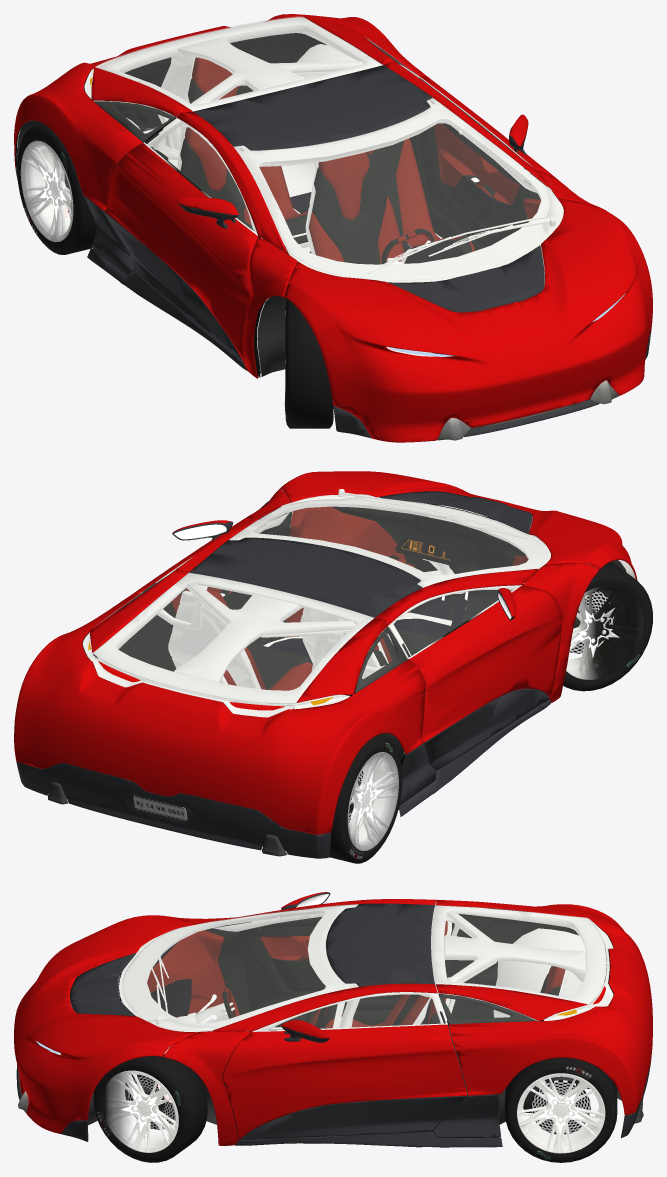
Rendered from showroom-car.glb.
3 renders of one model, top to bottom at view 1: azimuth 30°, elevation 25°; view 2: azimuth 150°, elevation 25°; view 3: azimuth 270°, elevation 25°, orthographic. The views are drawn at different scales.
Parts seen in each view (by area): view 1: BodyRearPanelsColor1, BodyWindshield, BodyWindshieldGasket, BodyRoofPanel, InteriorDashSides, InteriorDashMid, InteriorSeatsColor2, object 21, WheelFrontLRim, BodyUnderside, InteriorMid, InteriorSteeringDash; view 2: BodyRearPanelsColor1, BodyWindshield, BodyRoofPanel, BodyWindshieldGasket, InteriorDashMid, WheelFrontLRim, object 21, InteriorDashSides, InteriorSeatsColor2, InteriorFloormats, InteriorSteeringDash, BodyUnderside (+3 smaller); view 3: BodyRearPanelsColor1, BodyWindshield, BodyRoofPanel, BodyWindshieldGasket, object 21, WheelFrontLRim, InteriorDashMid, InteriorDashSides, InteriorMid, WheelFrontLBrakeDisc, BodyUnderside, InteriorSeatsColor2 (+1 smaller).
Part boxes in pixels (x1,y1,x2,y2): BodyRearPanelsColor1: (14, 14, 652, 442); BodyWindshield: (94, 16, 549, 280); BodyWindshieldGasket: (16, 17, 618, 440); BodyRoofPanel: (15, 65, 651, 438); InteriorDashSides: (185, 57, 540, 264); InteriorDashMid: (15, 33, 526, 281); InteriorSeatsColor2: (180, 78, 472, 264); object 21: (17, 124, 333, 428); WheelFrontLRim: (20, 140, 285, 414); BodyUnderside: (16, 78, 526, 377); InteriorMid: (93, 173, 557, 376); InteriorSteeringDash: (404, 239, 465, 263); BodyRearPanelsColor1: (14, 471, 637, 834); BodyWindshield: (92, 497, 547, 703); BodyRoofPanel: (16, 491, 550, 858); BodyWindshieldGasket: (82, 489, 635, 753); InteriorDashMid: (48, 502, 528, 850); WheelFrontLRim: (347, 585, 643, 851); object 21: (260, 501, 652, 863); InteriorDashSides: (171, 506, 528, 690); InteriorSeatsColor2: (246, 628, 437, 689); InteriorFloormats: (268, 598, 467, 659); InteriorSteeringDash: (395, 533, 462, 566); BodyUnderside: (48, 560, 626, 856); BodyRearPanelsColor1: (14, 892, 652, 1145); BodyWindshield: (122, 904, 606, 1030); BodyRoofPanel: (16, 892, 652, 1147); BodyWindshieldGasket: (18, 901, 613, 1143); object 21: (93, 1054, 617, 1162); WheelFrontLRim: (102, 1070, 605, 1153); InteriorDashMid: (118, 907, 613, 1030); InteriorDashSides: (147, 921, 565, 1028); InteriorMid: (205, 921, 499, 1143); WheelFrontLBrakeDisc: (127, 1075, 590, 1134); BodyUnderside: (39, 927, 643, 1125); InteriorSeatsColor2: (304, 973, 560, 1028).
Bounding box in the file's own units: 2.54 × 1.15 × 4.36.
23 materials, 18 textured.
